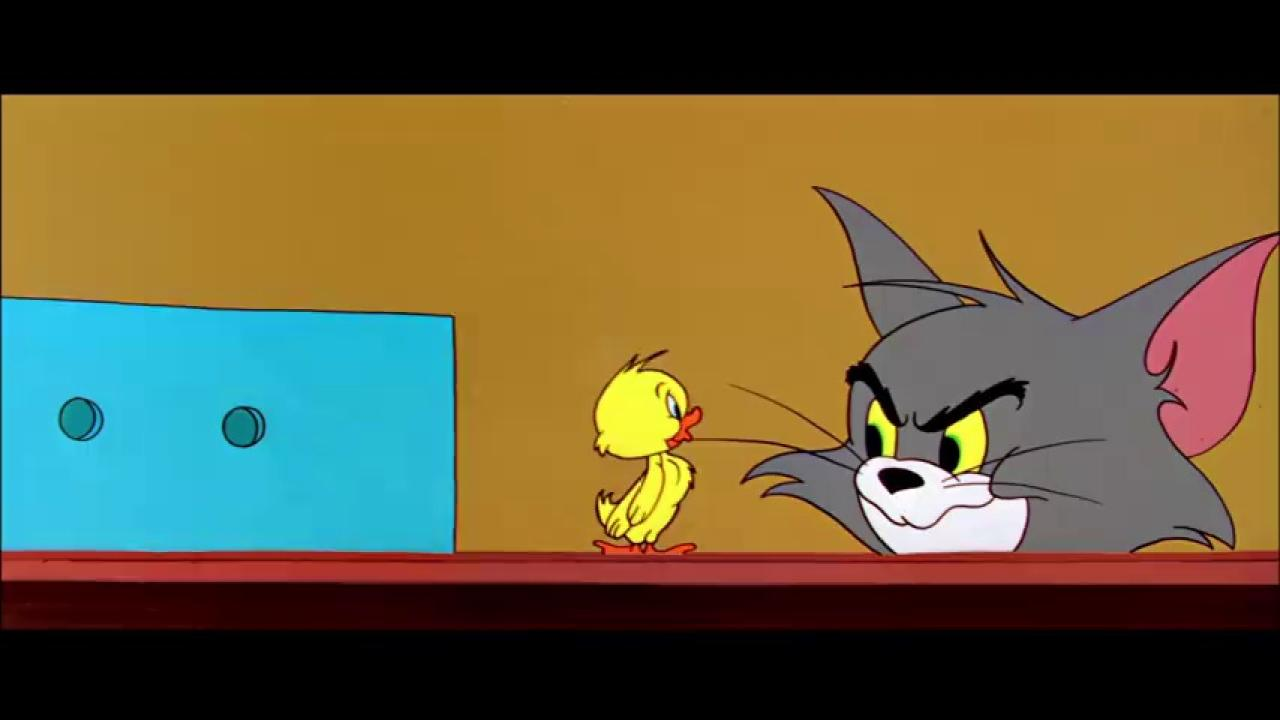Tom: (737, 182, 1280, 552)
